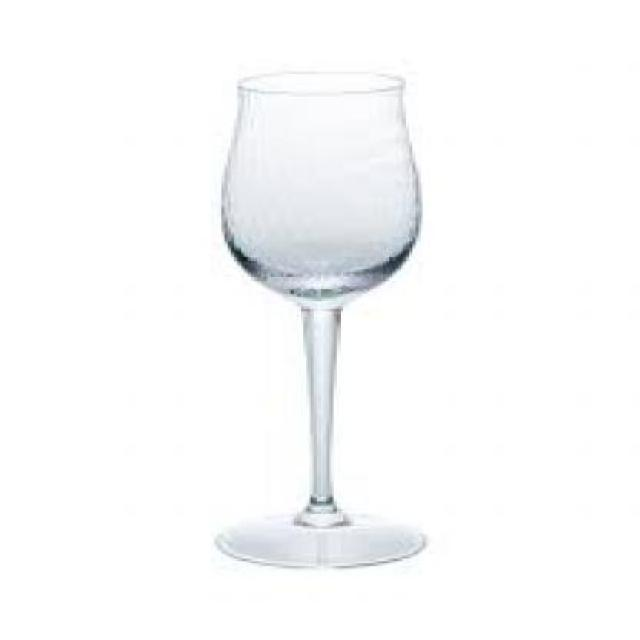kaca: (215, 69, 420, 563)
